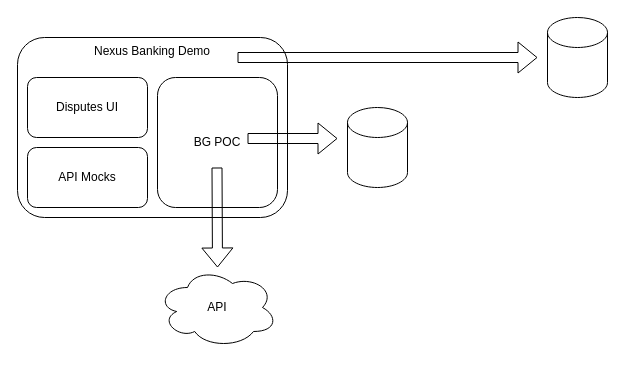
This 625x365 diagram has some shape labels left out. Each missing label, with the box of its shape:
AWS: (346, 106, 408, 188)
MS AD: (546, 16, 608, 98)
